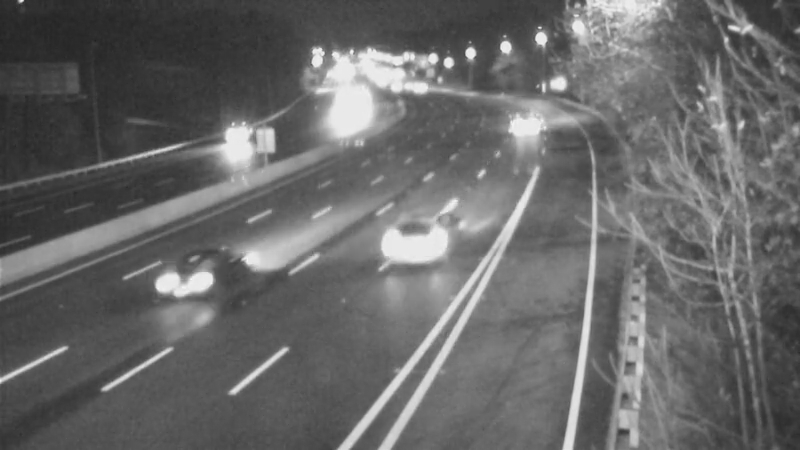vehicle: (384, 194, 464, 274), (145, 243, 225, 323), (491, 99, 541, 149), (218, 112, 268, 162)
